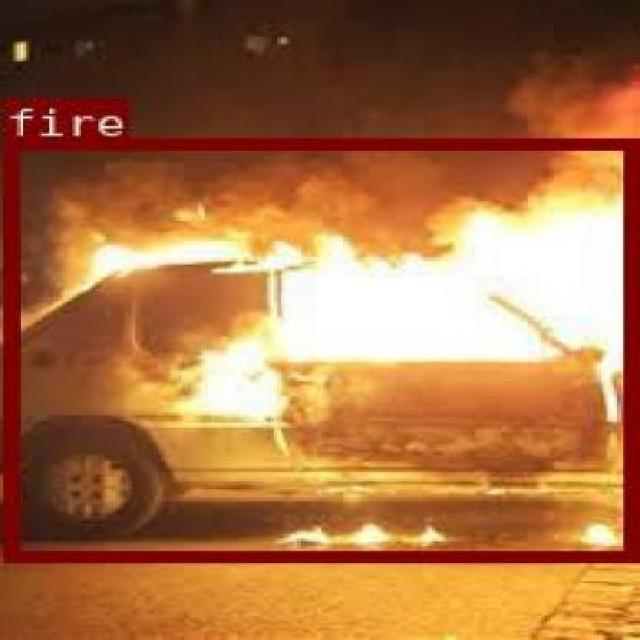Fire: (3, 136, 634, 558)
